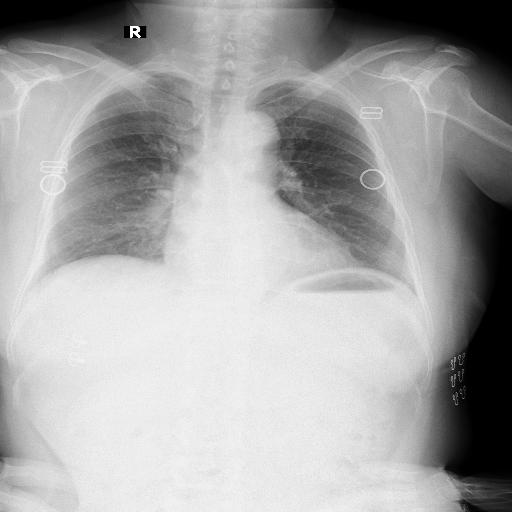Aortic enlargement: (202, 90, 254, 134)
Cardiomegaly: (64, 208, 259, 252)
